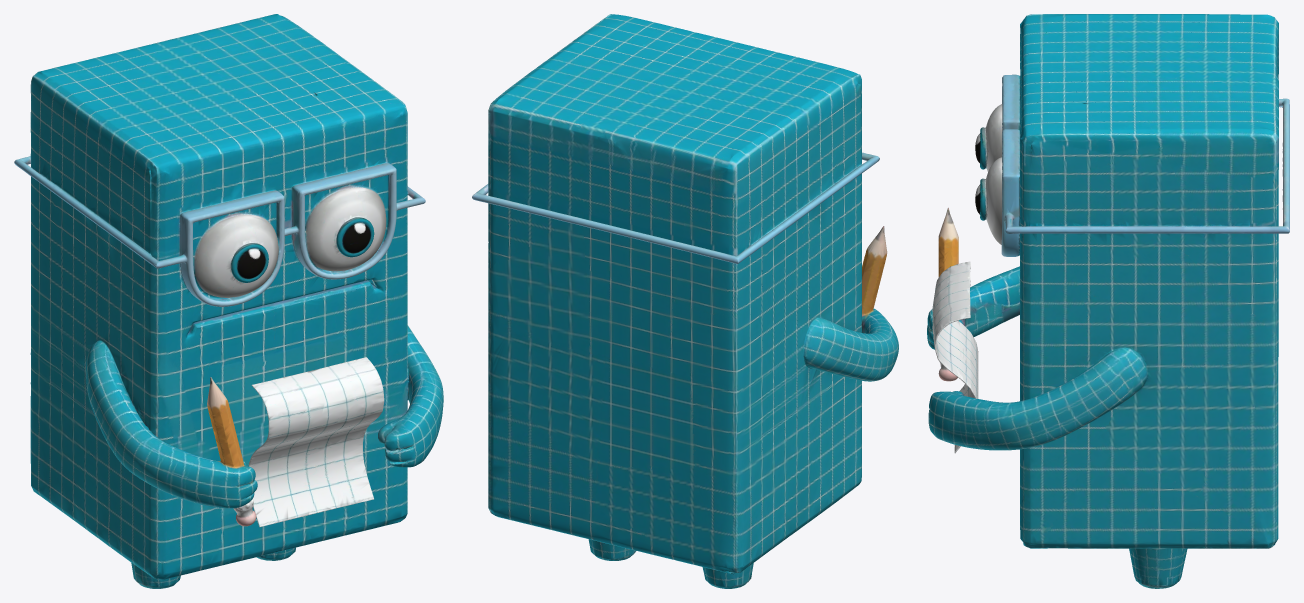
File: blue.glb
The picture shows the model from 3 angles, left to right: view 1: azimuth 30°, elevation 25°; view 2: azimuth 150°, elevation 25°; view 3: azimuth 270°, elevation 25°; orthographic projection.
Size of the model in its own units: 1.28 by 1.9 by 1.3.
Materials: 1 (1 with a texture image).
